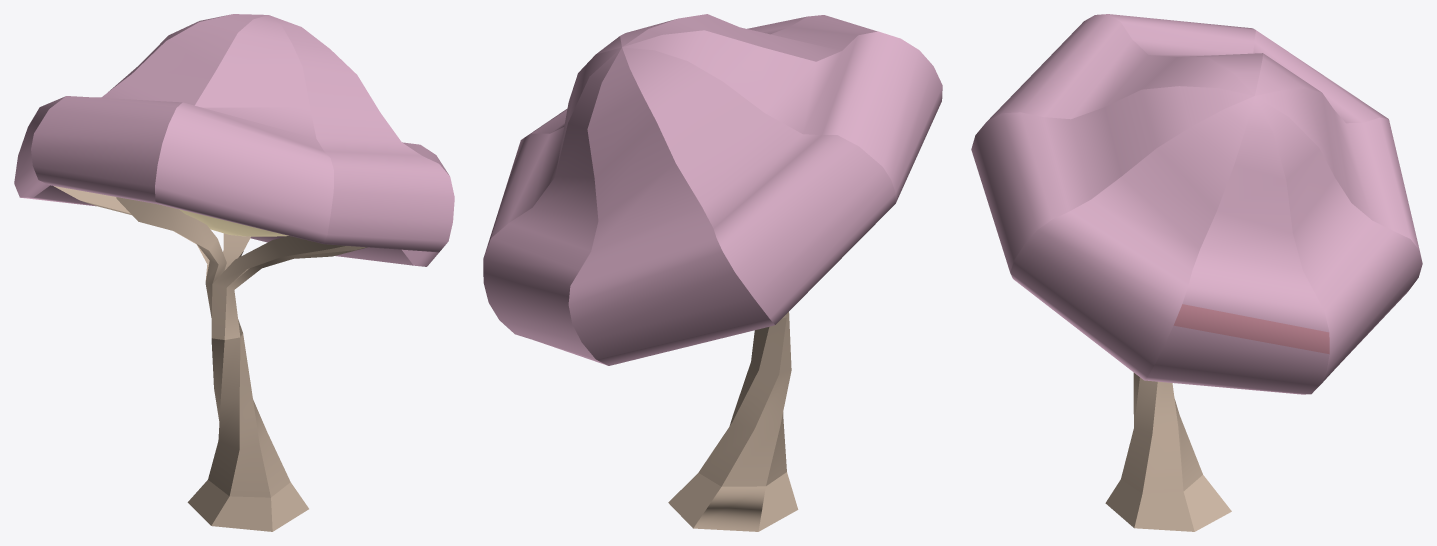
Rendered from Trees_Fairy_02.fbx.
3 renders of one model, left to right at view 1: azimuth 30°, elevation 25°; view 2: azimuth 150°, elevation 25°; view 3: azimuth 270°, elevation 25°, orthographic. The views are drawn at different scales.
Visible parts, largest first — view 1: Namu5; view 2: Namu5; view 3: Namu5.
Part boxes in pixels (<box>): Namu5: <box>14,14,454,531</box>; Namu5: <box>483,14,942,531</box>; Namu5: <box>971,14,1422,531</box>.
Size of the model in its own units: 944 by 1081 by 973.
